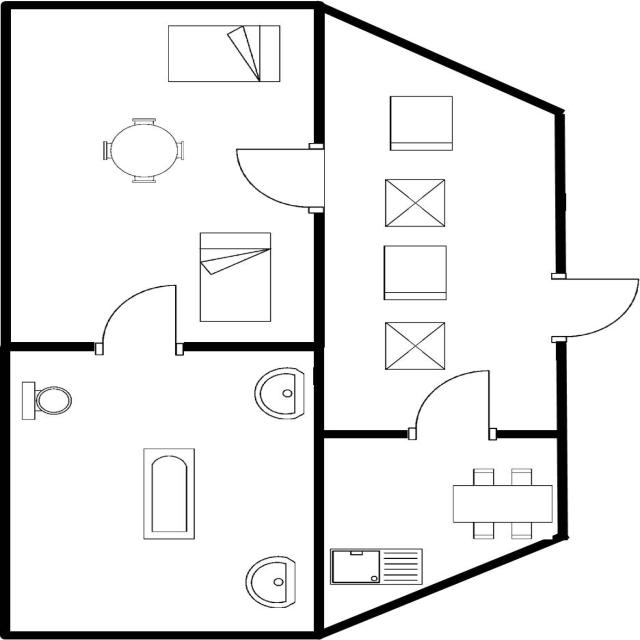bed: (194, 226, 278, 326), (161, 22, 288, 88)
coffee_table: (375, 172, 452, 232), (379, 319, 448, 373)
dining_table: (444, 464, 557, 545)
large_sink: (15, 377, 74, 424)
round_table: (98, 113, 191, 188)
sink: (326, 546, 428, 589)
small_sink: (248, 361, 308, 425), (240, 551, 300, 612)
small_sofa: (384, 88, 458, 157), (374, 242, 452, 303)
tub: (134, 441, 202, 545)
